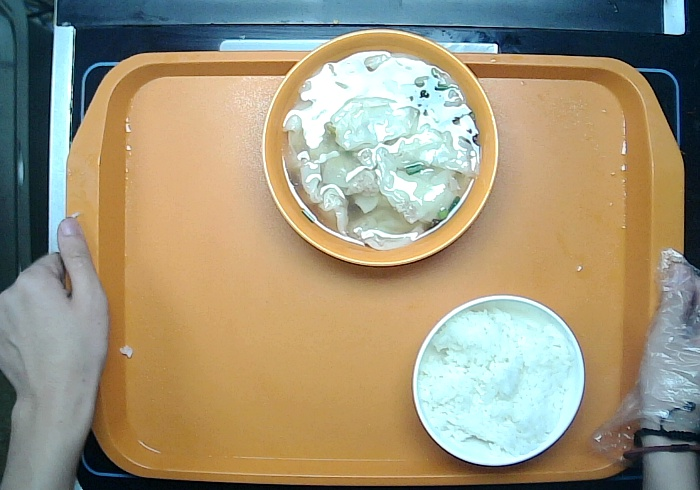NLDX-Fan_Wan: (407, 291, 592, 470)
NLDX-Hun_Tun_Wan: (258, 27, 502, 273)
